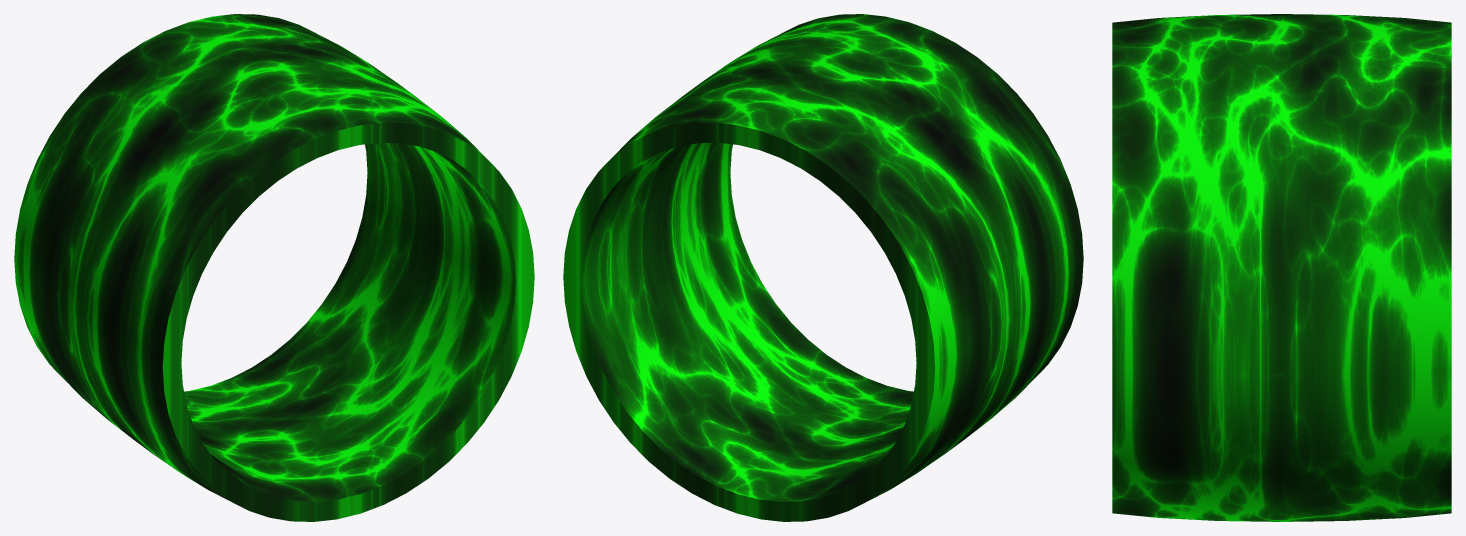
Rendered from RunnerTunnel.fbx.
3 views of the same model, side by side, from view 1: azimuth 30°, elevation 25°; view 2: azimuth 150°, elevation 25°; view 3: azimuth 270°, elevation 25° (orthographic). The views are drawn at different scales.
Parts seen in each view (by area): view 1: pTorus1; view 2: pTorus1; view 3: pTorus1.
Boxes of the visible parts, bbox=[...] form: pTorus1: bbox=[14, 14, 534, 521]; pTorus1: bbox=[563, 14, 1083, 521]; pTorus1: bbox=[1112, 14, 1451, 521].
Bounding box in the file's own units: 2.18 × 2.18 × 1.46.
Materials: 1 (1 with a texture image).
